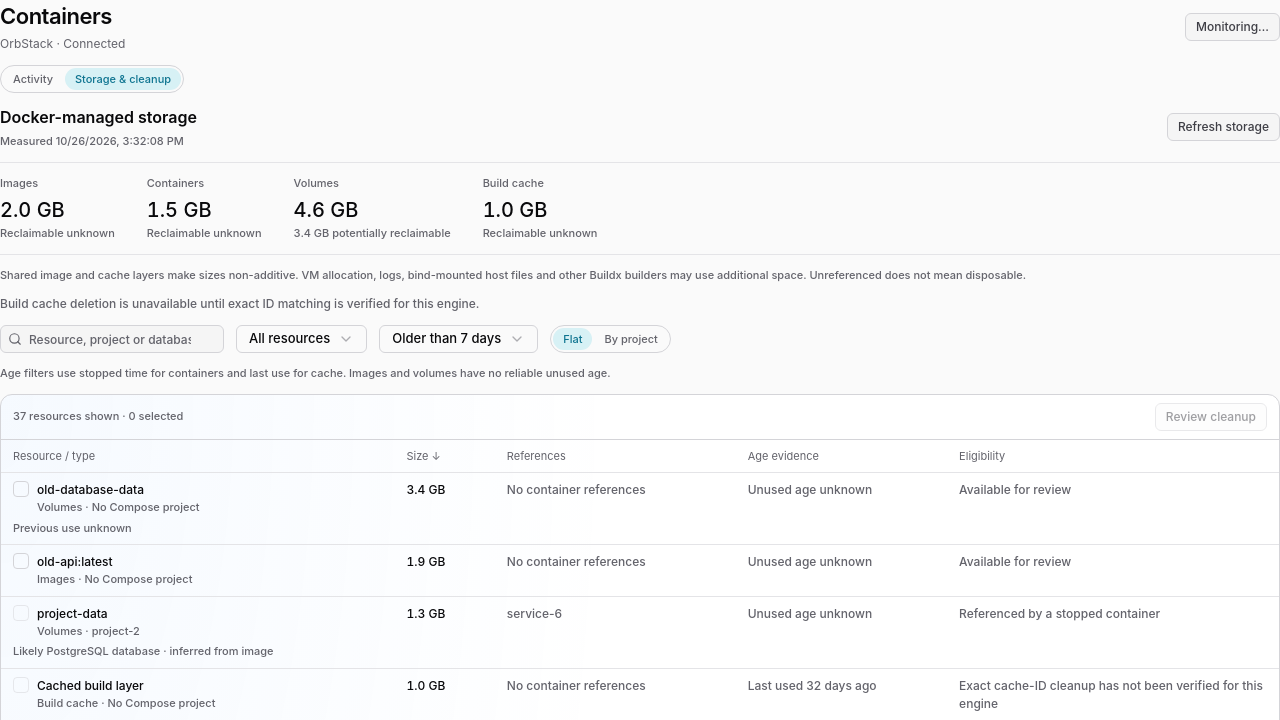
keeps maximum-length volume batches out of the final acknowledgement label
Click the checkbox named "Select old-database-data": (21, 489) [13, 481, 29, 497]
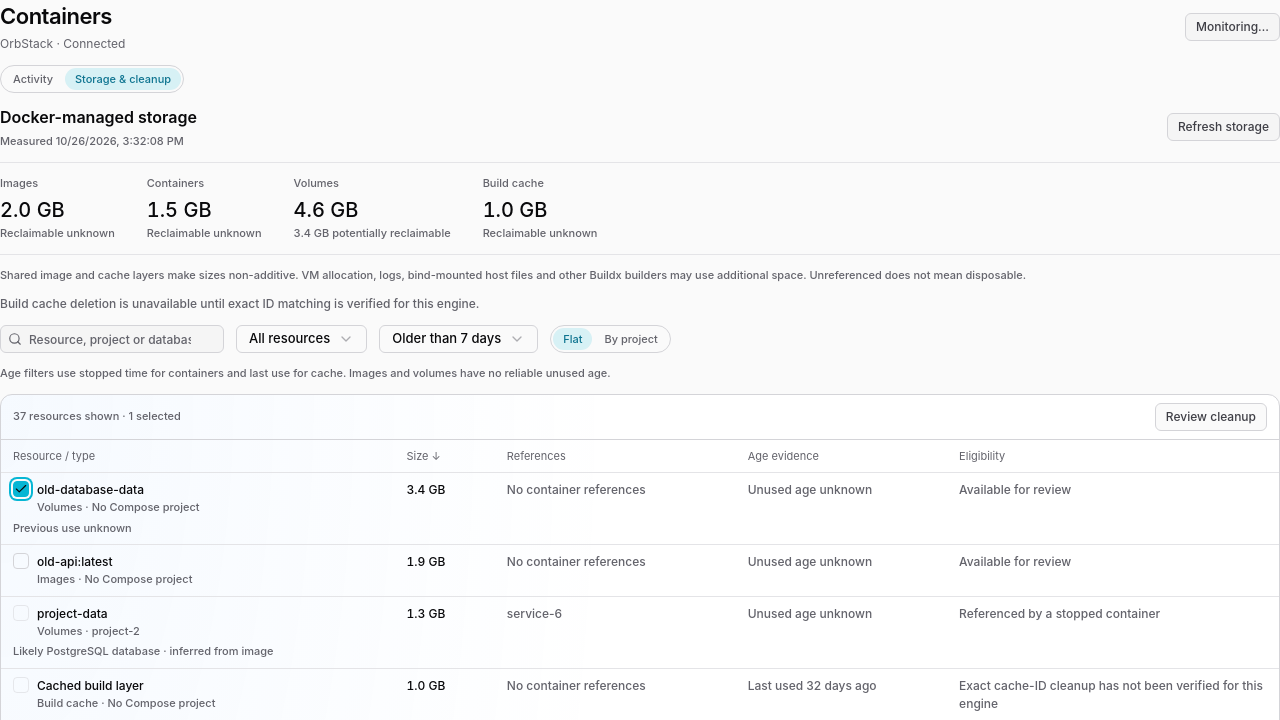
Click the button "Review cleanup": (1211, 416) [1155, 402, 1267, 430]
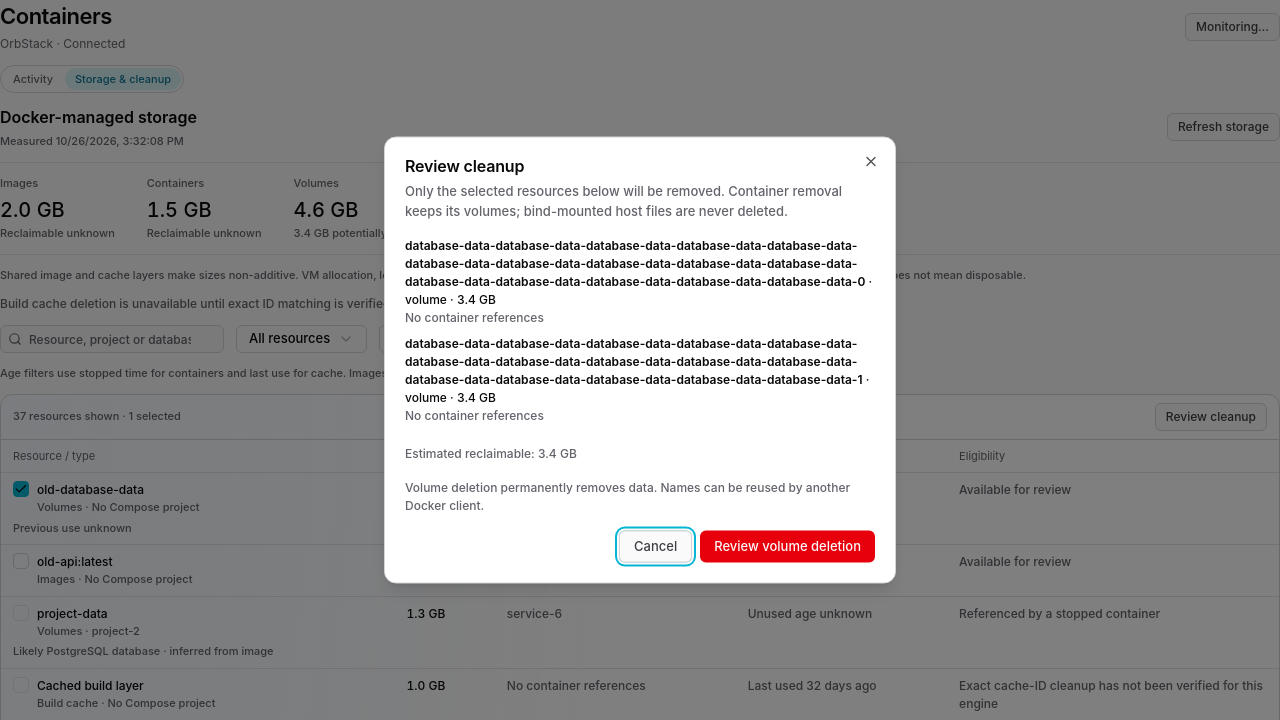
Click the button "Review volume deletion": (788, 546) [700, 530, 875, 562]
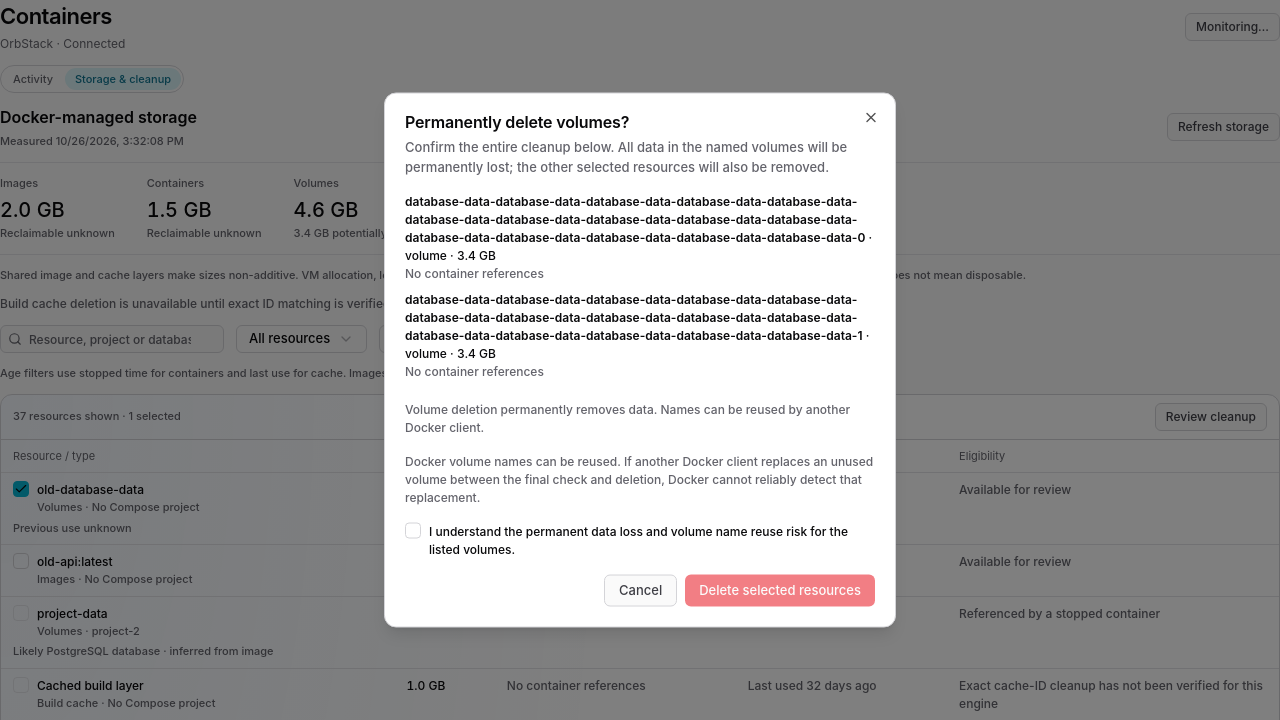
Now the checkbox named "I understand the permanent data loss and volume name reuse risk for the listed volumes." is shown, box [405, 522, 421, 538]
Now the button "Delete selected resources" is disabled, box [685, 574, 875, 606]
